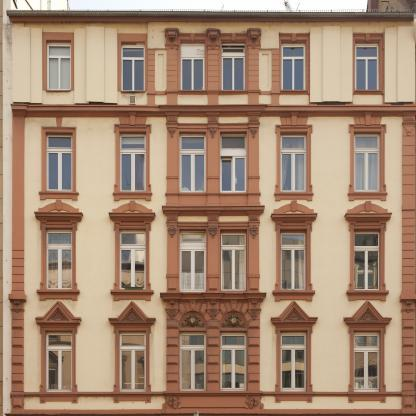Building Outline: (4, 10, 416, 416)
Cornice: (162, 205, 265, 217), (34, 199, 84, 222), (271, 300, 318, 323), (345, 300, 392, 323), (108, 301, 156, 323), (108, 200, 156, 222), (270, 200, 318, 222), (35, 300, 80, 323), (344, 201, 393, 222), (158, 104, 267, 111), (219, 311, 248, 328), (178, 311, 207, 328), (280, 116, 309, 126), (354, 116, 382, 126), (119, 116, 147, 126), (55, 117, 63, 127)
Facade: (12, 17, 416, 416)
Floor: (11, 310, 416, 411), (11, 113, 416, 212), (11, 213, 416, 310)
Floor Slab: (11, 302, 416, 310), (11, 404, 416, 411), (12, 205, 416, 212), (12, 105, 416, 112)
Ground Floor: (11, 411, 416, 416)
Sill: (160, 292, 267, 303), (163, 390, 263, 396), (110, 289, 154, 301), (36, 289, 80, 301), (112, 391, 153, 403), (272, 290, 315, 301), (346, 290, 389, 301), (347, 392, 389, 403), (273, 392, 315, 403), (38, 392, 80, 403), (347, 192, 388, 201), (112, 192, 153, 201), (274, 192, 314, 201), (121, 90, 146, 92), (180, 90, 205, 92), (221, 90, 246, 92), (356, 89, 381, 91), (45, 90, 71, 91), (281, 90, 307, 91)
Top Floor: (11, 17, 416, 113)
Window: (220, 230, 247, 292), (179, 229, 206, 291), (179, 132, 206, 193), (220, 132, 247, 193), (354, 229, 381, 290), (280, 229, 307, 290), (119, 229, 146, 290), (46, 331, 73, 392), (280, 331, 307, 392), (280, 132, 307, 192), (354, 132, 381, 192), (119, 332, 146, 392), (179, 331, 206, 391), (46, 132, 73, 191), (119, 132, 146, 191), (46, 228, 72, 289), (354, 331, 380, 392), (221, 331, 247, 391), (46, 40, 71, 90), (355, 41, 380, 90), (121, 41, 145, 91), (181, 41, 205, 90), (222, 41, 246, 90), (282, 41, 306, 90)
